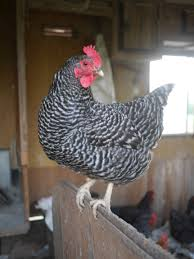chicken: (28, 42, 181, 225)
